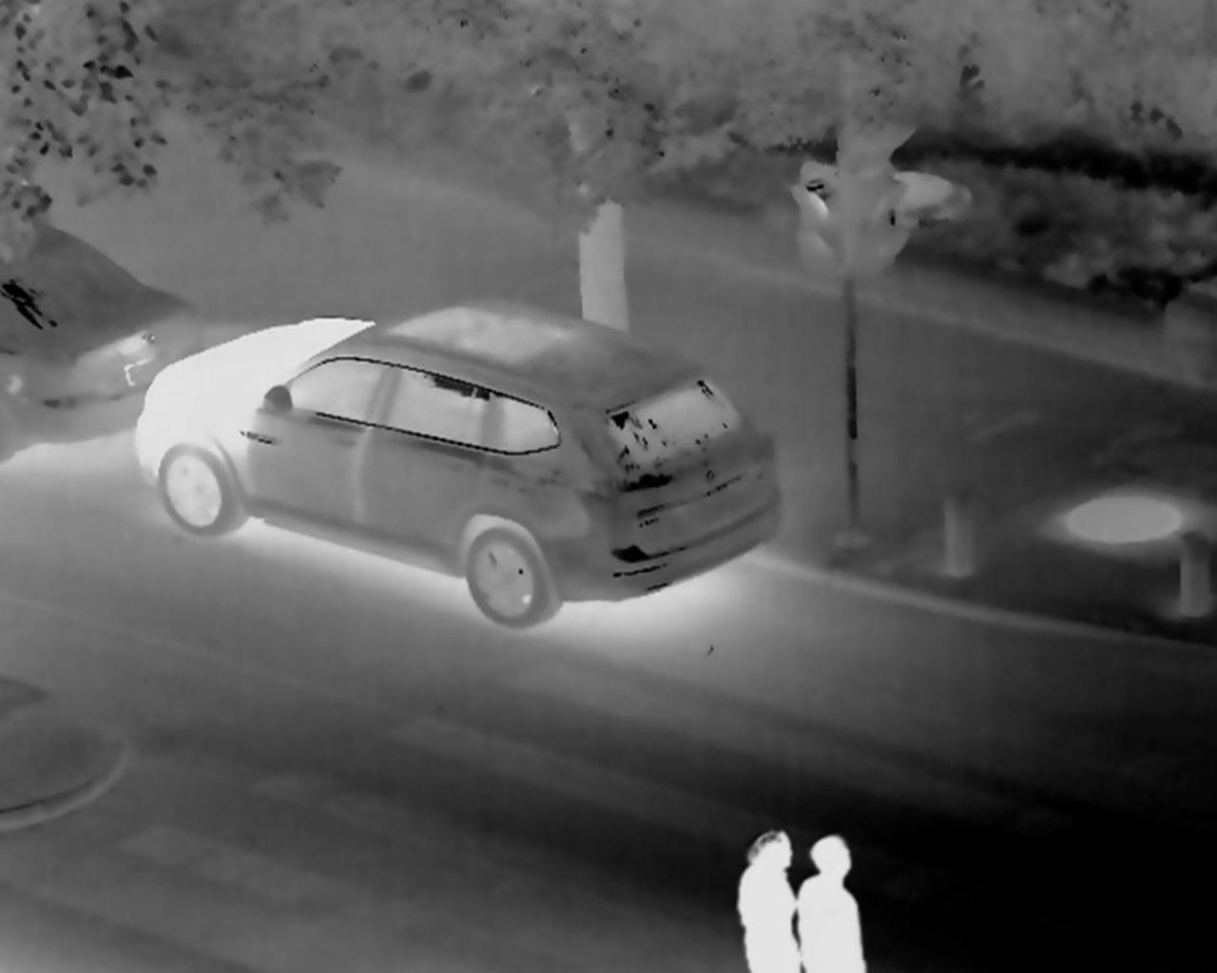person: (797, 831, 874, 973), (736, 822, 804, 973)
